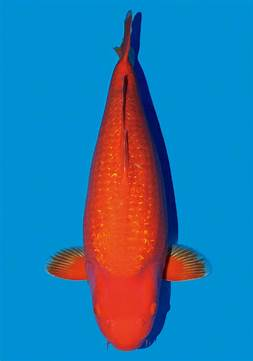red: (45, 11, 209, 351)
